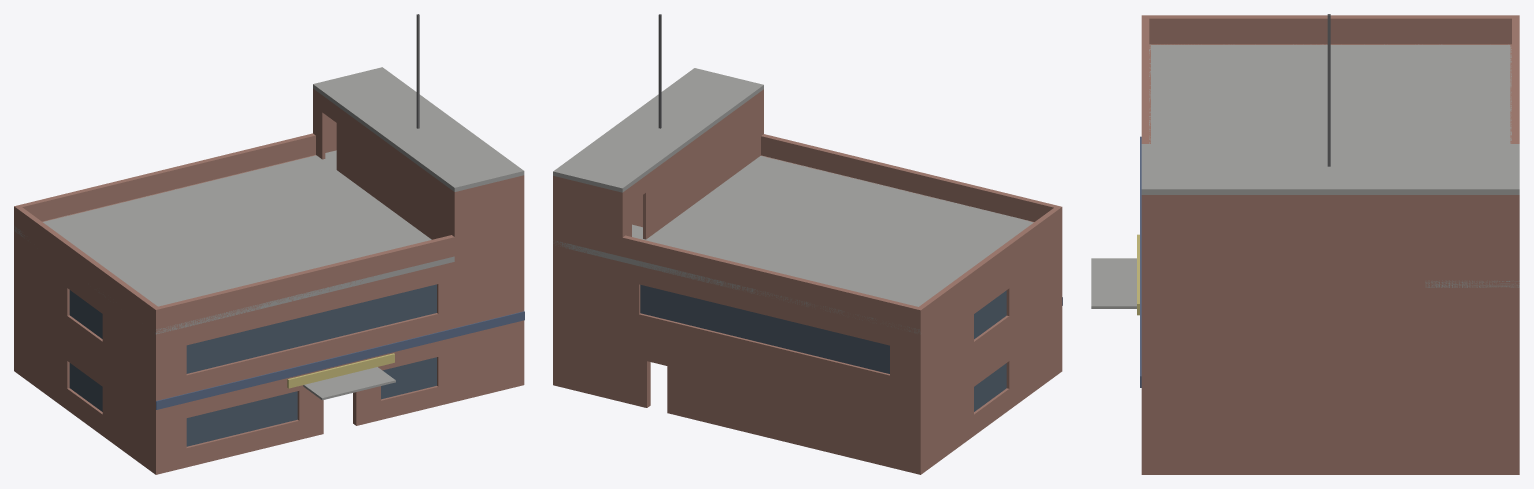
File: police-station.lod1.glb
3 views of the same model, side by side, from view 1: azimuth 30°, elevation 25°; view 2: azimuth 150°, elevation 25°; view 3: azimuth 270°, elevation 25° (orthographic). The views are drawn at different scales.
Visible parts, largest first — view 1: police-station; view 2: police-station; view 3: police-station.
Part boxes in pixels (x1,y1,x2,y2): police-station: (14, 14, 524, 474); police-station: (553, 14, 1062, 474); police-station: (1091, 14, 1519, 474).
Size of the model in its own units: 18 by 15.3 by 13.6.
